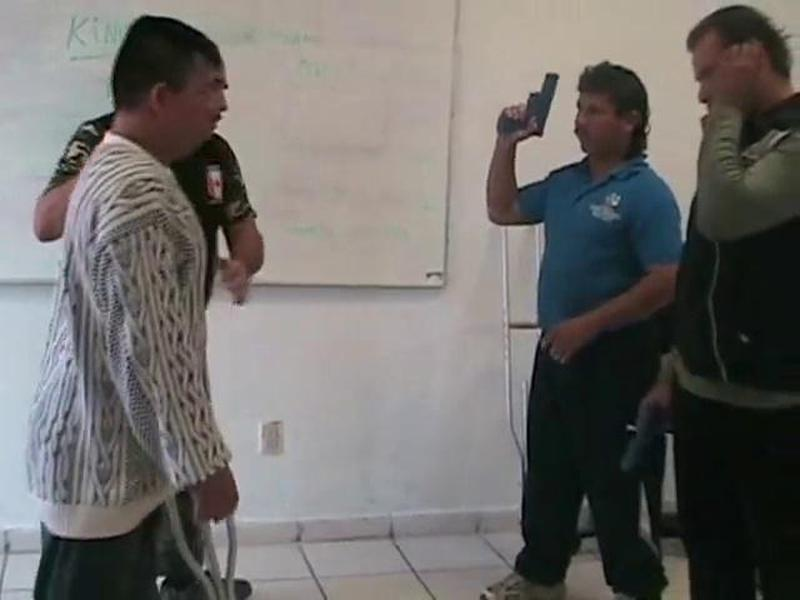Pistola: (489, 56, 566, 155)
